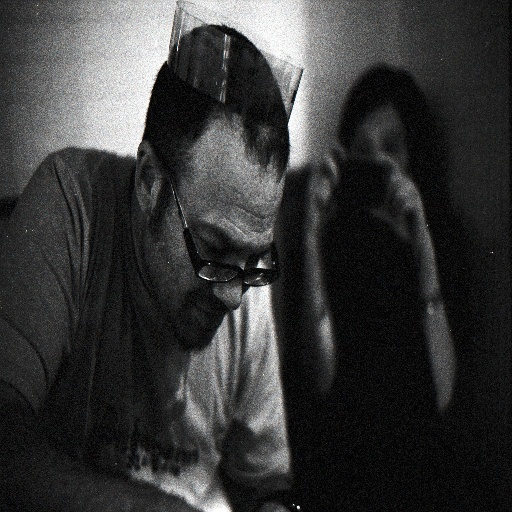hand: (394, 162, 456, 388), (305, 139, 351, 230)
